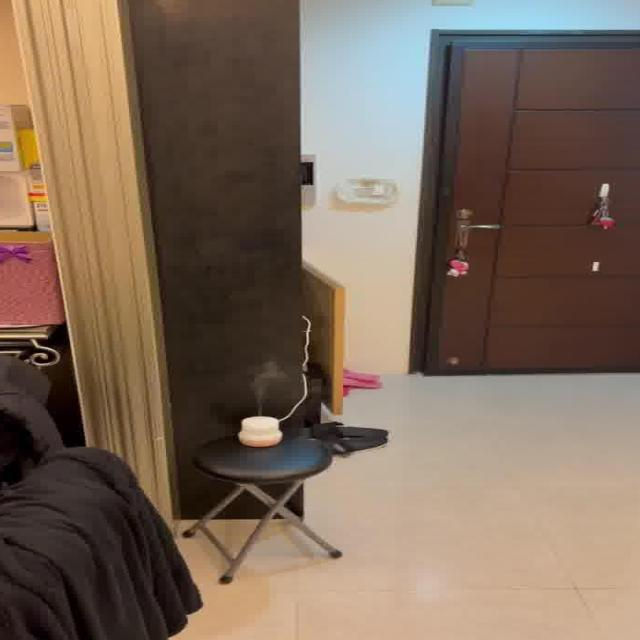fire: (242, 360, 292, 404)
